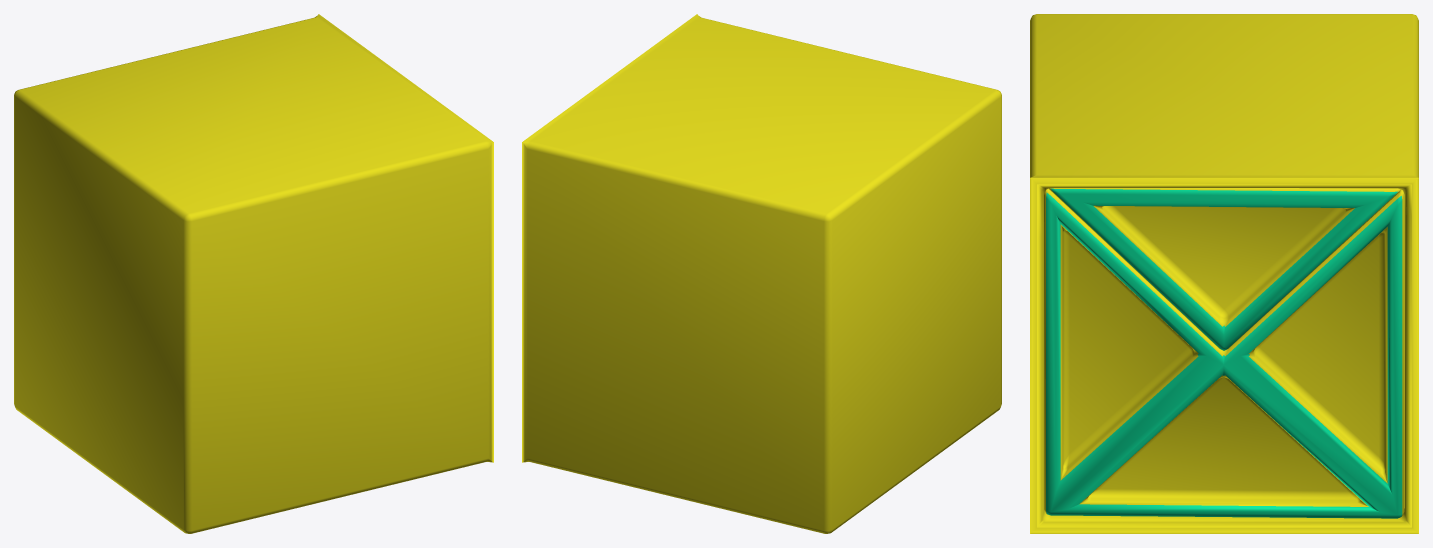
The model's file is HPKutu.fbx.
3 renders of one model, left to right at view 1: azimuth 30°, elevation 25°; view 2: azimuth 150°, elevation 25°; view 3: azimuth 270°, elevation 25°, orthographic. The views are drawn at different scales.
Visible parts, largest first — view 1: Cube; view 2: Cube; view 3: Cube.
Part boxes in pixels (x1,y1,x2,y2): Cube: (14, 14, 493, 533); Cube: (522, 14, 1001, 533); Cube: (1030, 14, 1418, 533).
Bounding box in the file's own units: 995 × 992 × 982.
